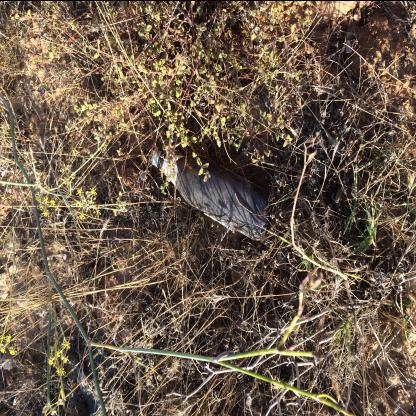cam: (152, 149, 271, 241)
